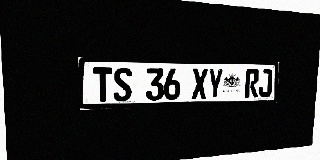3: (146, 68, 164, 101)
6: (164, 68, 181, 100)
J: (258, 69, 273, 97)
R: (245, 69, 259, 98)
S: (113, 67, 132, 102)
T: (93, 67, 113, 102)
X: (192, 68, 208, 99)
Y: (207, 69, 223, 99)
